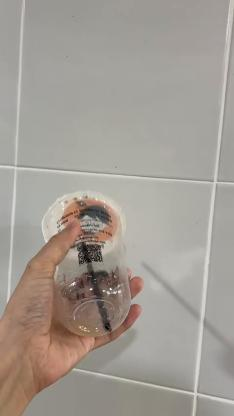Plastic Cup: (43, 190, 132, 338)
